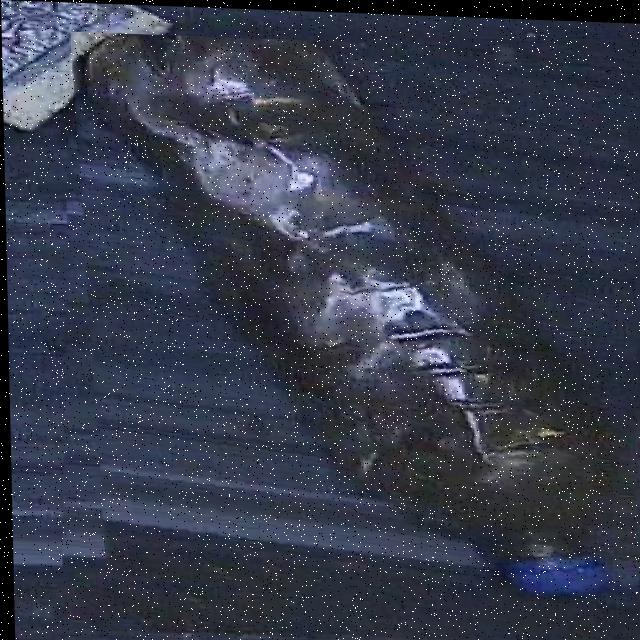litter: (70, 31, 634, 615)
